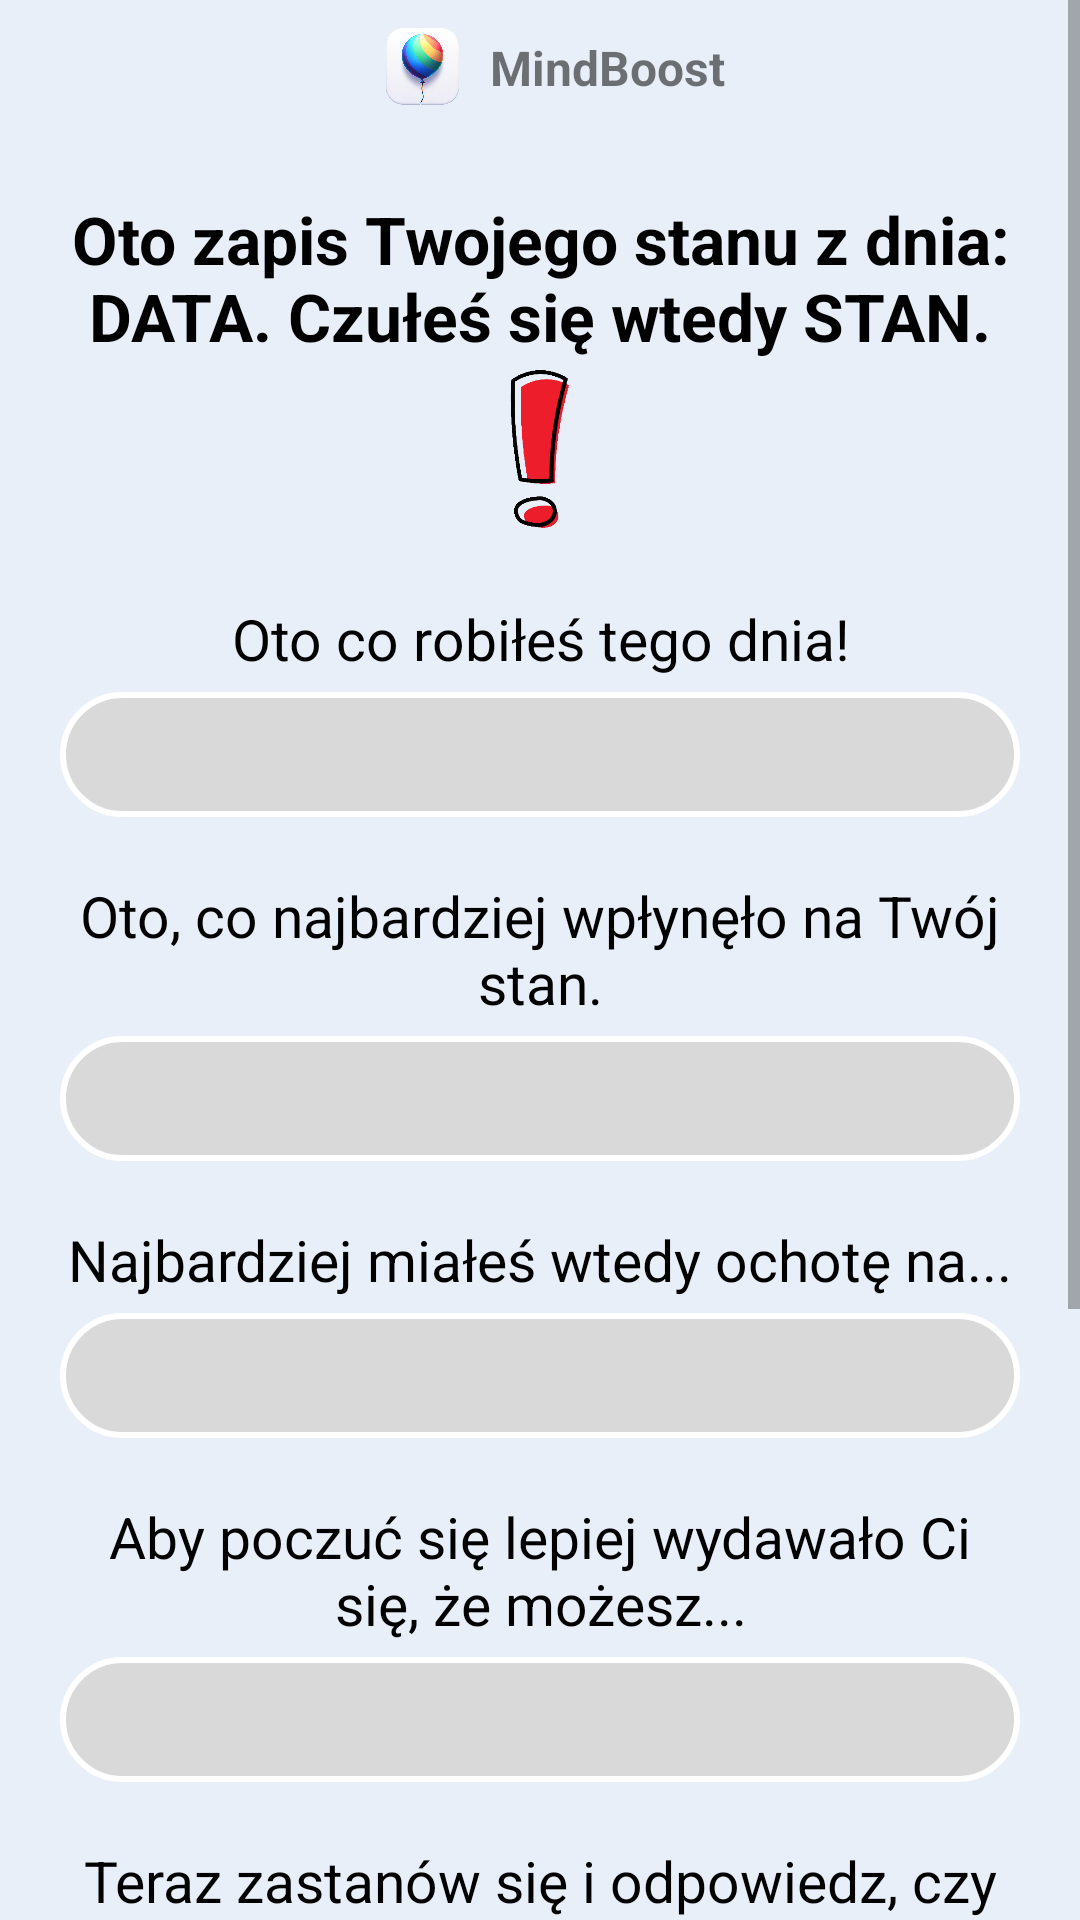

Icon click points for this 1080px x 1920px phone screenshot, format point (x, y):
exclamation mark: point (540, 449)
